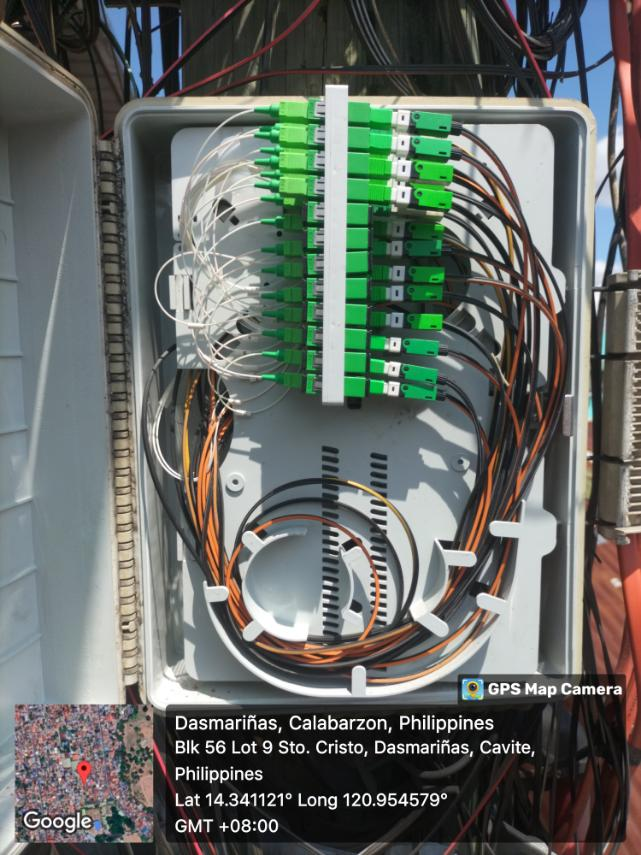occupied: (366, 181, 466, 217), (368, 154, 467, 190), (369, 130, 468, 166), (370, 104, 469, 140), (386, 335, 452, 360), (383, 363, 449, 388), (382, 379, 448, 404), (384, 180, 452, 204), (388, 136, 456, 159), (387, 159, 455, 182), (384, 201, 452, 224), (379, 238, 445, 258), (382, 263, 447, 283), (384, 310, 449, 330), (385, 285, 451, 303), (382, 223, 449, 240)
vacant: (365, 329, 373, 353), (367, 203, 375, 226), (364, 353, 372, 376), (364, 376, 371, 399), (366, 306, 373, 329), (366, 276, 373, 299), (368, 250, 375, 273), (368, 227, 375, 250)
